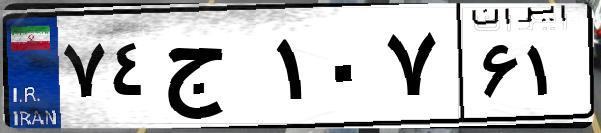0: (330, 28, 385, 110)
1: (270, 28, 330, 110), (525, 38, 570, 115)
4: (110, 28, 158, 98)
6: (475, 38, 525, 113)
7: (385, 28, 445, 110), (57, 26, 110, 100)
ج: (158, 20, 270, 120)
